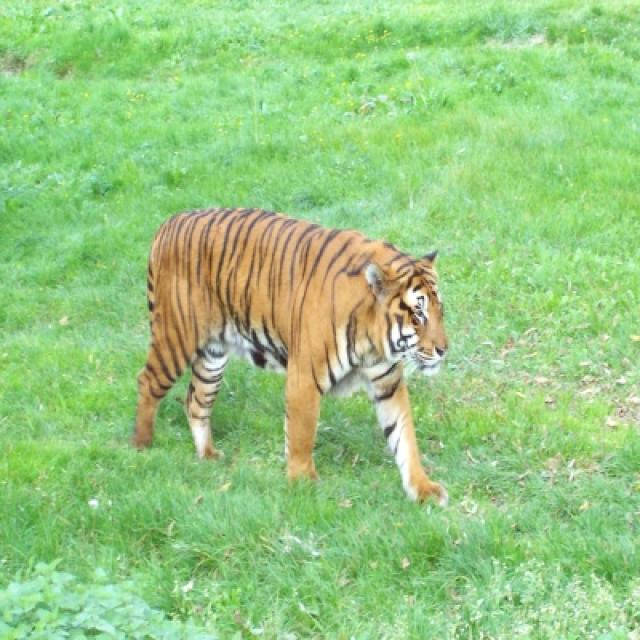Tiger: (131, 205, 453, 507)
